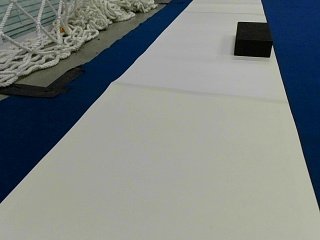block: (234, 21, 272, 57)
